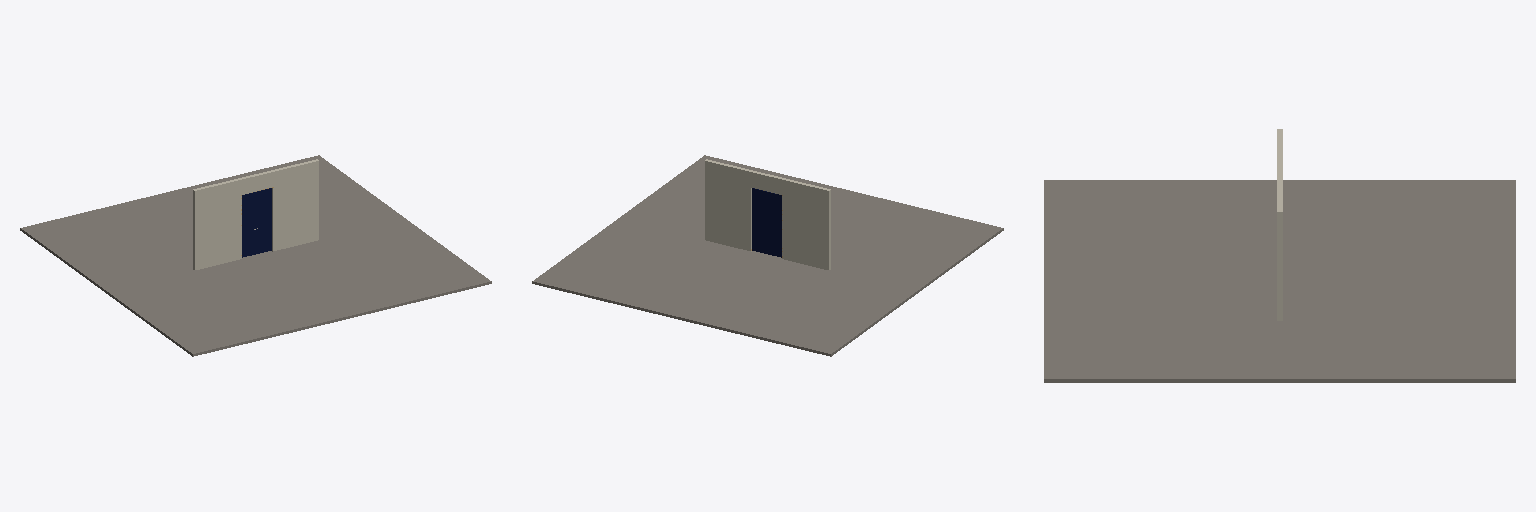
The robot description file, URDF, robot "db0071_bifold_minimal":
<?xml version="1.0" ?>
<robot xmlns:doorbench="https://github.com/adamraudonis/DoorBench/schema/urdf-ext" name="db0071_bifold_minimal">
  <link name="world_env">
    <visual name="floor_vis">
      <origin xyz="0 0 -0.05" rpy="0 0 0"/>
      <geometry>
        <box size="12 12 0.1"/>
      </geometry>
      <material name="mat_floor"/>
    </visual>
    <collision name="floor_col">
      <origin xyz="0 0 -0.05" rpy="0 0 0"/>
      <geometry>
        <box size="12 12 0.1"/>
      </geometry>
    </collision>
    <visual name="wall_left_vis">
      <origin xyz="-1.56175 0 1.5275" rpy="0 0 0"/>
      <geometry>
        <box size="1.8765 0.145 3.055"/>
      </geometry>
      <material name="mat_wall"/>
    </visual>
    <collision name="wall_left_col">
      <origin xyz="-1.56175 0 1.5275" rpy="0 0 0"/>
      <geometry>
        <box size="1.8765 0.145 3.055"/>
      </geometry>
    </collision>
    <visual name="wall_right_vis">
      <origin xyz="1.56175 0 1.5275" rpy="0 0 0"/>
      <geometry>
        <box size="1.8765 0.145 3.055"/>
      </geometry>
      <material name="mat_wall"/>
    </visual>
    <collision name="wall_right_col">
      <origin xyz="1.56175 0 1.5275" rpy="0 0 0"/>
      <geometry>
        <box size="1.8765 0.145 3.055"/>
      </geometry>
    </collision>
    <visual name="wall_header_vis">
      <origin xyz="0 0 2.755" rpy="0 0 0"/>
      <geometry>
        <box size="1.247 0.145 0.6"/>
      </geometry>
      <material name="mat_wall"/>
    </visual>
    <collision name="wall_header_col">
      <origin xyz="0 0 2.755" rpy="0 0 0"/>
      <geometry>
        <box size="1.247 0.145 0.6"/>
      </geometry>
    </collision>
    <visual name="jamb_hinge_vis">
      <origin xyz="-0.633 0 1.2275" rpy="0 0 0"/>
      <geometry>
        <box size="0.019 0.145 2.455"/>
      </geometry>
      <material name="mat_frame"/>
    </visual>
    <collision name="jamb_hinge_col">
      <origin xyz="-0.633 0 1.2275" rpy="0 0 0"/>
      <geometry>
        <box size="0.019 0.145 2.455"/>
      </geometry>
    </collision>
    <visual name="jamb_strike_vis">
      <origin xyz="0.633 0 1.2275" rpy="0 0 0"/>
      <geometry>
        <box size="0.019 0.145 2.455"/>
      </geometry>
      <material name="mat_frame"/>
    </visual>
    <collision name="jamb_strike_col">
      <origin xyz="0.633 0 1.2275" rpy="0 0 0"/>
      <geometry>
        <box size="0.019 0.145 2.455"/>
      </geometry>
    </collision>
    <visual name="stud_strike_vis">
      <origin xyz="0.6575 0 1.2275" rpy="0 0 0"/>
      <geometry>
        <box size="0.03 0.145 2.455"/>
      </geometry>
      <material name="mat_wall"/>
    </visual>
    <collision name="stud_strike_col">
      <origin xyz="0.6575 0 1.2275" rpy="0 0 0"/>
      <geometry>
        <box size="0.03 0.145 2.455"/>
      </geometry>
    </collision>
    <visual name="jamb_head_vis">
      <origin xyz="0.015 0 2.4645" rpy="0 0 0"/>
      <geometry>
        <box size="1.315 0.145 0.019"/>
      </geometry>
      <material name="mat_frame"/>
    </visual>
    <collision name="jamb_head_col">
      <origin xyz="0.015 0 2.4645" rpy="0 0 0"/>
      <geometry>
        <box size="1.315 0.145 0.019"/>
      </geometry>
    </collision>
    <visual name="head_stud_vis">
      <origin xyz="0.015 0 2.489" rpy="0 0 0"/>
      <geometry>
        <box size="1.315 0.145 0.03"/>
      </geometry>
      <material name="mat_wall"/>
    </visual>
    <collision name="head_stud_col">
      <origin xyz="0.015 0 2.489" rpy="0 0 0"/>
      <geometry>
        <box size="1.315 0.145 0.03"/>
      </geometry>
    </collision>
  </link>
  <link name="panel_0_0">
    <inertial>
      <origin xyz="0.120855 0 1.22" rpy="0 0 0"/>
      <mass value="18.653178"/>
      <inertia ixx="8.955429455" ixy="0" ixz="0" iyy="9.088150091" iyz="0" izz="0.136528993"/>
    </inertial>
    <visual name="panel_0_0_slab_vis">
      <origin xyz="0.120855 0 1.22" rpy="0 0 0"/>
      <geometry>
        <box size="0.294291 0.035 2.4"/>
      </geometry>
      <material name="mat_panel_0_0"/>
    </visual>
    <collision name="panel_0_0_slab_col">
      <origin xyz="0.120855 0 1.22" rpy="0 0 0"/>
      <geometry>
        <box size="0.294291 0.035 2.4"/>
      </geometry>
    </collision>
  </link>
  <link name="panel_0_1">
    <inertial>
      <origin xyz="0.247537 -0.048 1.033208" rpy="0 0 0"/>
      <mass value="19.891822"/>
      <inertia ixx="1.571806119" ixy="0.009684625" ixz="0.059311191" iyy="1.61979227" iyz="-0.020147683" izz="0.059953246"/>
    </inertial>
    <visual name="panel_0_1_slab_vis">
      <origin xyz="0.15775 -0.0175 1.22" rpy="0 0 0"/>
      <geometry>
        <box size="0.3115 0.035 2.4"/>
      </geometry>
      <material name="mat_panel_0_1"/>
    </visual>
    <collision name="panel_0_1_slab_col">
      <origin xyz="0.15775 -0.0175 1.22" rpy="0 0 0"/>
      <geometry>
        <box size="0.3115 0.035 2.4"/>
      </geometry>
    </collision>
    <visual name="panel_0_1_knob_vis">
      <origin xyz="0.2635 -0.035 1" rpy="1.570796 0 0"/>
      <geometry>
        <mesh filename="../../hardware/knob_13f7a2a65f.obj"/>
      </geometry>
      <material name="mat_op_nickel_satin"/>
    </visual>
    <visual name="panel_0_1_knob_col_vis">
      <origin xyz="0.2635 -0.065 1" rpy="0 0 0"/>
      <geometry>
        <sphere radius="0.016"/>
      </geometry>
      <material name="mat_op_nickel_satin"/>
    </visual>
    <collision name="panel_0_1_knob_col_col">
      <origin xyz="0.2635 -0.065 1" rpy="0 0 0"/>
      <geometry>
        <sphere radius="0.016"/>
      </geometry>
    </collision>
    <visual name="panel_0_1_knob_rose_vis">
      <origin xyz="0.2635 -0.04 1" rpy="-1.570796 0 0"/>
      <geometry>
        <cylinder radius="0.022" length="0.01"/>
      </geometry>
      <material name="mat_op_nickel_satin"/>
    </visual>
  </link>
  <link name="panel_1_0">
    <inertial>
      <origin xyz="-0.120855 0 1.22" rpy="0 0 0"/>
      <mass value="18.653178"/>
      <inertia ixx="8.955429455" ixy="0" ixz="0" iyy="9.088150091" iyz="0" izz="0.136528993"/>
    </inertial>
    <visual name="panel_1_0_slab_vis">
      <origin xyz="-0.120855 0 1.22" rpy="0 0 0"/>
      <geometry>
        <box size="0.294291 0.035 2.4"/>
      </geometry>
      <material name="mat_panel_1_0"/>
    </visual>
    <collision name="panel_1_0_slab_col">
      <origin xyz="-0.120855 0 1.22" rpy="0 0 0"/>
      <geometry>
        <box size="0.294291 0.035 2.4"/>
      </geometry>
    </collision>
  </link>
  <link name="panel_1_1">
    <inertial>
      <origin xyz="-0.247537 -0.048 1.033208" rpy="0 0 0"/>
      <mass value="19.891822"/>
      <inertia ixx="1.571806119" ixy="-0.009684625" ixz="-0.059311191" iyy="1.61979227" iyz="-0.020147683" izz="0.059953246"/>
    </inertial>
    <visual name="panel_1_1_slab_vis">
      <origin xyz="-0.15775 -0.0175 1.22" rpy="0 0 0"/>
      <geometry>
        <box size="0.3115 0.035 2.4"/>
      </geometry>
      <material name="mat_panel_1_1"/>
    </visual>
    <collision name="panel_1_1_slab_col">
      <origin xyz="-0.15775 -0.0175 1.22" rpy="0 0 0"/>
      <geometry>
        <box size="0.3115 0.035 2.4"/>
      </geometry>
    </collision>
    <visual name="panel_1_1_knob_vis">
      <origin xyz="-0.2635 -0.035 1" rpy="-1.570796 0 3.141593"/>
      <geometry>
        <mesh filename="../../hardware/knob_13f7a2a65f.obj"/>
      </geometry>
      <material name="mat_op_nickel_satin"/>
    </visual>
    <visual name="panel_1_1_knob_col_vis">
      <origin xyz="-0.2635 -0.065 1" rpy="0 0 0"/>
      <geometry>
        <sphere radius="0.016"/>
      </geometry>
      <material name="mat_op_nickel_satin"/>
    </visual>
    <collision name="panel_1_1_knob_col_col">
      <origin xyz="-0.2635 -0.065 1" rpy="0 0 0"/>
      <geometry>
        <sphere radius="0.016"/>
      </geometry>
    </collision>
    <visual name="panel_1_1_knob_rose_vis">
      <origin xyz="-0.2635 -0.04 1" rpy="-1.570796 0 0"/>
      <geometry>
        <cylinder radius="0.022" length="0.01"/>
      </geometry>
      <material name="mat_op_nickel_satin"/>
    </visual>
  </link>
  <joint name="panel_0_0_hinge" type="revolute">
    <origin xyz="-0.5885 0 0" rpy="0 0 0"/>
    <parent link="world_env"/>
    <child link="panel_0_0"/>
    <axis xyz="0 0 -1"/>
    <limit lower="0" upper="1.48353" effort="2000" velocity="10"/>
    <dynamics damping="0.9866" friction="3.512126"/>
  </joint>
  <joint name="panel_0_1_hinge" type="revolute">
    <origin xyz="0.27 0.0175 0" rpy="0 0 0"/>
    <parent link="panel_0_0"/>
    <child link="panel_0_1"/>
    <axis xyz="0 0 -1"/>
    <limit lower="-3.141593" upper="0" effort="2000" velocity="10"/>
    <dynamics damping="0.2" friction="0.1"/>
    <mimic joint="panel_0_0_hinge" multiplier="-2" offset="0"/>
  </joint>
  <joint name="panel_1_0_hinge" type="revolute">
    <origin xyz="0.5885 0 0" rpy="0 0 0"/>
    <parent link="world_env"/>
    <child link="panel_1_0"/>
    <axis xyz="0 0 1"/>
    <limit lower="0" upper="1.48353" effort="2000" velocity="10"/>
    <dynamics damping="0.9866" friction="3.512126"/>
  </joint>
  <joint name="panel_1_1_hinge" type="revolute">
    <origin xyz="-0.27 0.0175 0" rpy="0 0 0"/>
    <parent link="panel_1_0"/>
    <child link="panel_1_1"/>
    <axis xyz="0 0 1"/>
    <limit lower="-3.141593" upper="0" effort="2000" velocity="10"/>
    <dynamics damping="0.2" friction="0.1"/>
    <mimic joint="panel_1_0_hinge" multiplier="-2" offset="0"/>
  </joint>
  <material name="mat_floor">
    <color rgba="0.55 0.53 0.5 1"/>
  </material>
  <material name="mat_frame">
    <color rgba="0.82 0.7 0.5 1"/>
  </material>
  <material name="mat_op_nickel_satin">
    <color rgba="0.72 0.7 0.66 1"/>
  </material>
  <material name="mat_panel_0_0">
    <color rgba="0.09 0.13 0.28 1"/>
  </material>
  <material name="mat_panel_0_1">
    <color rgba="0.09 0.13 0.28 1"/>
  </material>
  <material name="mat_panel_1_0">
    <color rgba="0.09 0.13 0.28 1"/>
  </material>
  <material name="mat_panel_1_1">
    <color rgba="0.09 0.13 0.28 1"/>
  </material>
  <material name="mat_wall">
    <color rgba="0.78 0.76 0.7 1"/>
  </material>
</robot>

--- What the picture shows (computed from the rendered views, not written in the file) ---
The picture shows the robot from 3 angles, left to right: view 1: azimuth 30°, elevation 25°; view 2: azimuth 150°, elevation 25°; view 3: azimuth 270°, elevation 25°; orthographic projection.
Robot: db0071_bifold_minimal — 5 links, 4 joints (4 revolute); root link world_env; default pose: every joint at zero.
Visible links, largest first — view 1: world_env; view 2: world_env; view 3: world_env.
Boxes of the visible links, x1,y1,x2,y2 form: world_env: [20, 155, 491, 356]; world_env: [532, 155, 1003, 356]; world_env: [1044, 129, 1515, 382].
Size in the robot's own frame: 12 by 12 by 3.15 metres.
Meshes: 1 distinct files referenced, 2 mesh visuals loaded (1 OBJ).
